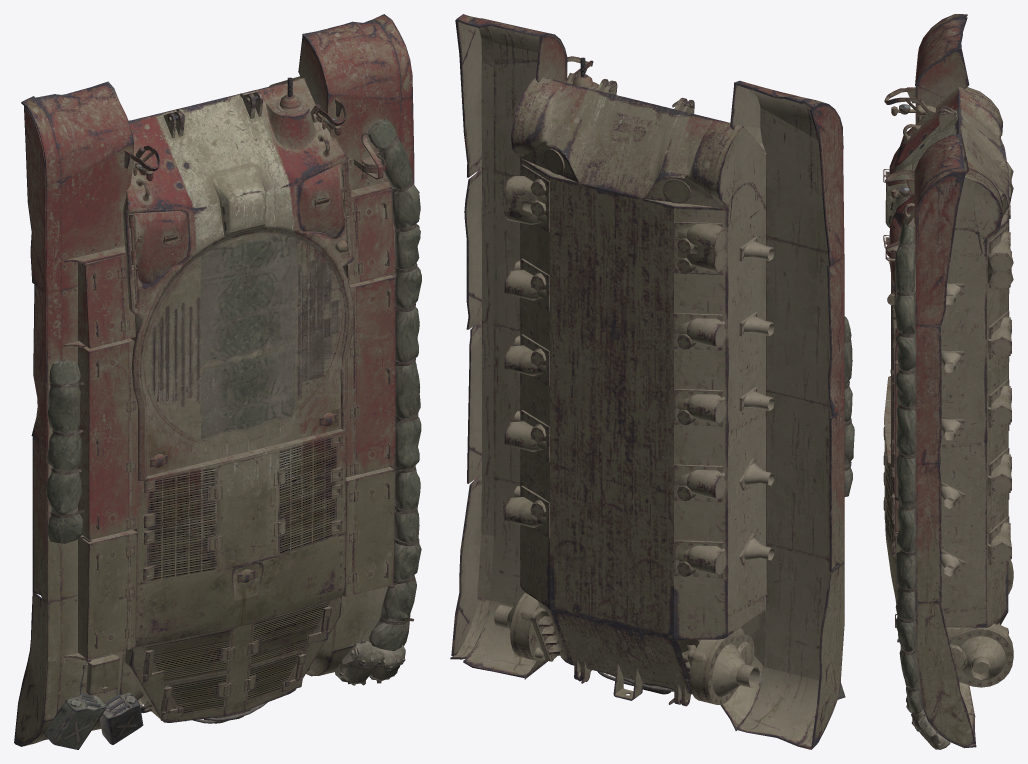
File: Hull.glb
3 renders of one model, left to right at view 1: azimuth 30°, elevation 25°; view 2: azimuth 150°, elevation 25°; view 3: azimuth 270°, elevation 25°, orthographic. The views are drawn at different scales.
Parts seen in each view (by area): view 1: set_0_group_0, set_0_group_1; view 2: set_0_group_0; view 3: set_0_group_0, set_0_group_1.
Part boxes in pixels (x1,y1,x2,y2): set_0_group_0: (14,14,421,746); set_0_group_1: (44,618,405,749); set_0_group_0: (450,14,854,749); set_0_group_0: (883,14,1013,748); set_0_group_1: (906,688,950,749).
Size of the model in its own units: 3.82 by 6.39 by 1.29.
2 materials, 2 textured.
